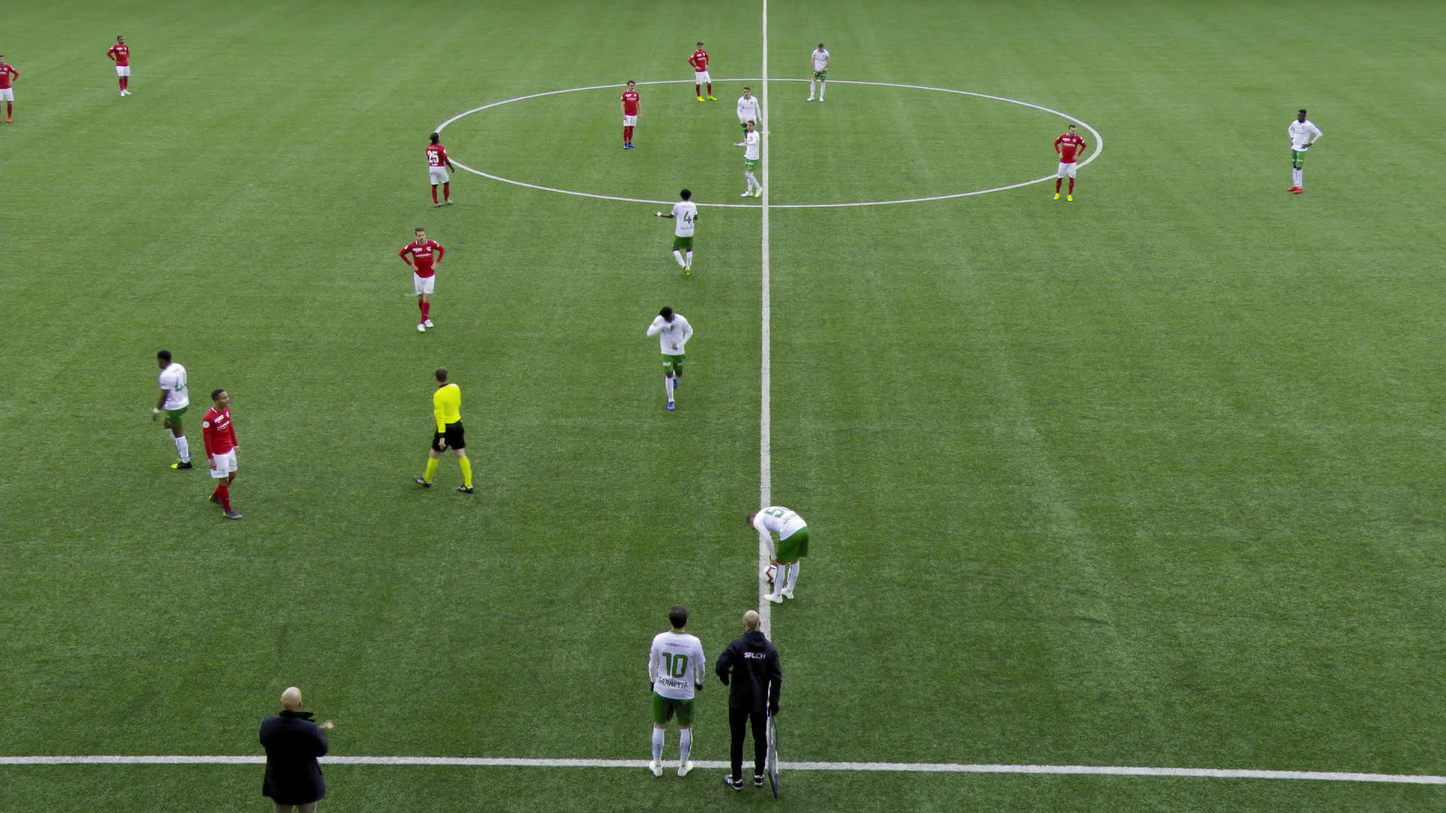ball: (763, 563, 776, 583)
player: (640, 605, 712, 778), (744, 504, 810, 604), (154, 349, 202, 472), (202, 387, 245, 522), (396, 225, 446, 333), (645, 301, 694, 411), (652, 187, 701, 281), (1283, 106, 1322, 195), (1051, 123, 1087, 202), (424, 131, 455, 209), (731, 119, 759, 199), (736, 85, 764, 155), (687, 40, 718, 103), (618, 78, 643, 150), (105, 35, 132, 98), (805, 41, 831, 104), (0, 54, 20, 126)
referee: (419, 364, 477, 497)
